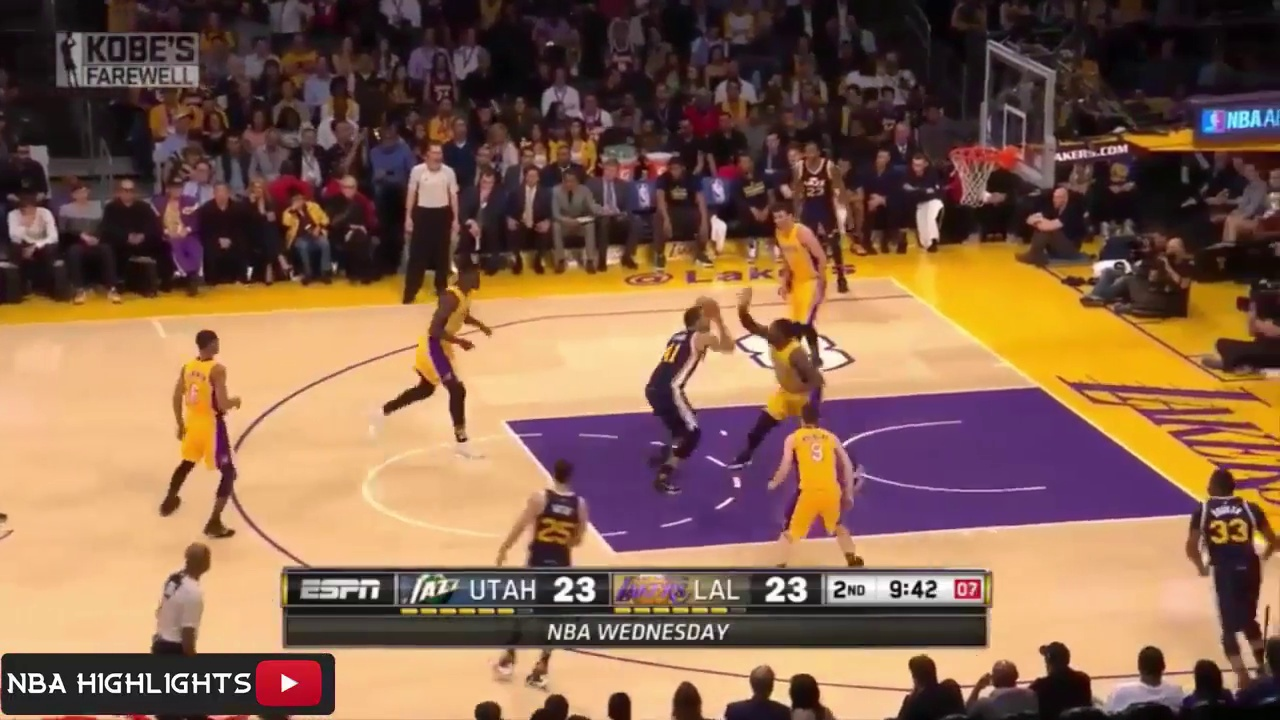jazz: (1164, 450, 1269, 663), (641, 296, 727, 495), (498, 457, 606, 567), (794, 142, 854, 292)
lakers: (370, 258, 501, 457), (153, 323, 254, 538), (757, 405, 860, 567), (731, 294, 824, 444), (760, 200, 834, 355)
